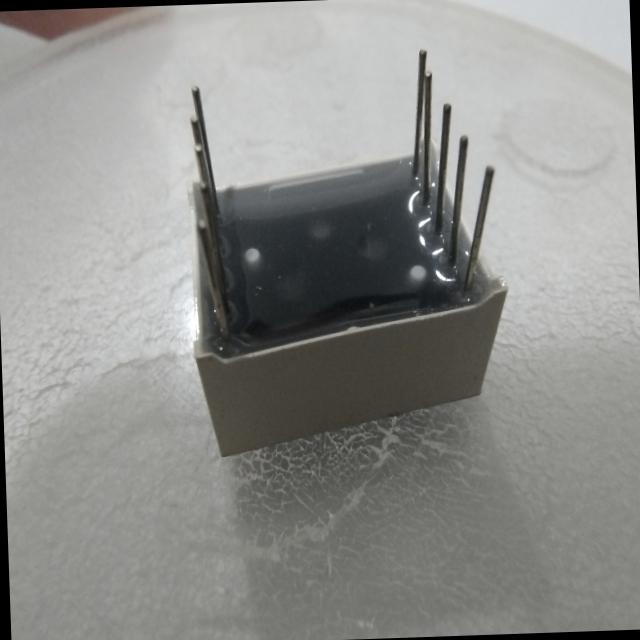7_segments: (154, 34, 526, 470)
